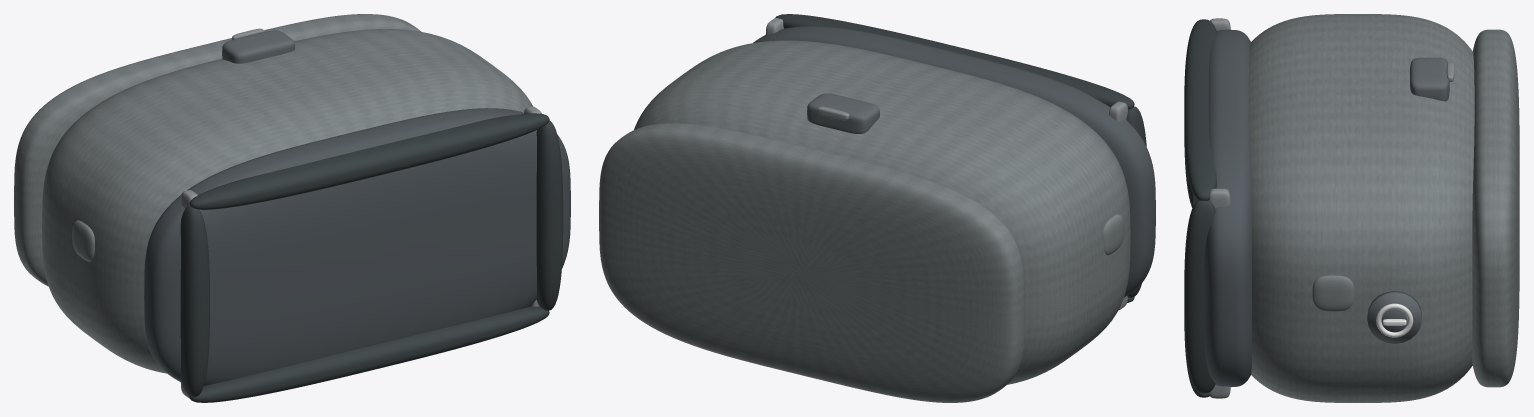
File: phonevr_hmd.glb
3 renders of one model, left to right at view 1: azimuth 30°, elevation 25°; view 2: azimuth 150°, elevation 25°; view 3: azimuth 270°, elevation 25°, orthographic.
Visible parts, largest first — view 1: inner_frame_13, fabric_shell_0, fabric_front_1, foam_pad_14, foam_pad_15, foam_pad_16, foam_pad_17, plastic_trim_2, fabric_seam_8; view 2: fabric_front_1, fabric_shell_0, inner_frame_13, foam_pad_14, plastic_trim_2, fabric_seam_8; view 3: fabric_shell_0, fabric_front_1, inner_frame_13, foam_pad_14, foam_pad_17, plastic_trim_10, plastic_trim_2, fabric_seam_9, logo_11, plastic_latch_33.
Part boxes in pixels (bbox=[...]): inner_frame_13: bbox=[144, 108, 570, 385]; fabric_shell_0: bbox=[42, 29, 532, 373]; fabric_front_1: bbox=[14, 14, 421, 286]; foam_pad_14: bbox=[189, 113, 549, 209]; foam_pad_15: bbox=[189, 306, 549, 402]; foam_pad_16: bbox=[180, 205, 209, 397]; foam_pad_17: bbox=[536, 120, 563, 310]; plastic_trim_2: bbox=[222, 30, 294, 63]; fabric_seam_8: bbox=[72, 220, 94, 261]; fabric_front_1: bbox=[599, 123, 1024, 402]; fabric_shell_0: bbox=[634, 40, 1130, 384]; inner_frame_13: bbox=[753, 26, 1155, 297]; foam_pad_14: bbox=[775, 14, 1134, 109]; plastic_trim_2: bbox=[807, 93, 879, 133]; fabric_seam_8: bbox=[1103, 214, 1124, 255]; fabric_shell_0: bbox=[1248, 14, 1474, 402]; fabric_front_1: bbox=[1472, 29, 1519, 387]; inner_frame_13: bbox=[1193, 29, 1251, 387]; foam_pad_14: bbox=[1184, 19, 1216, 200]; foam_pad_17: bbox=[1184, 200, 1215, 393]; plastic_trim_10: bbox=[1367, 291, 1421, 343]; plastic_trim_2: bbox=[1410, 57, 1449, 101]; fabric_seam_9: bbox=[1312, 275, 1354, 311]; logo_11: bbox=[1376, 303, 1413, 337]; plastic_latch_33: bbox=[1209, 188, 1230, 208].
Size of the model in its own units: 1.79 by 0.976 by 1.1.
18 materials, 3 textured.
